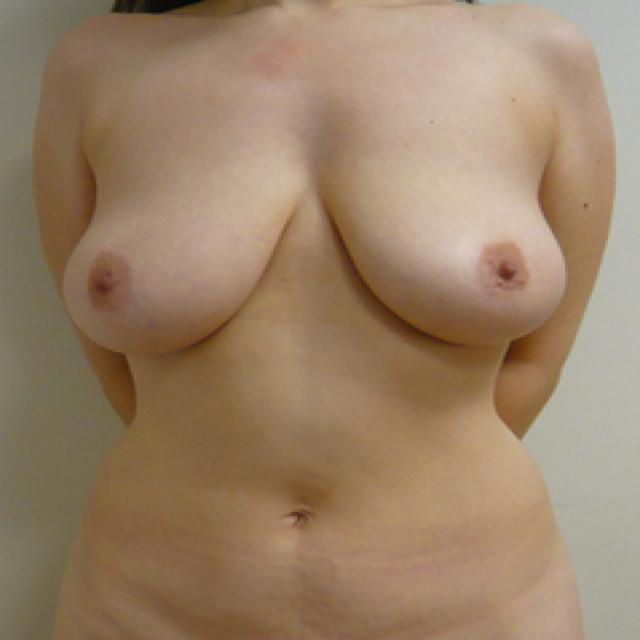Seno ileso: (315, 139, 578, 364), (51, 140, 306, 372)
